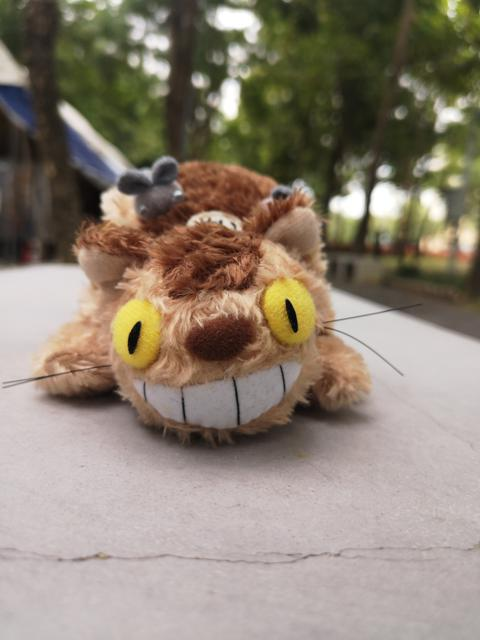nekobus: (3, 152, 426, 458)
